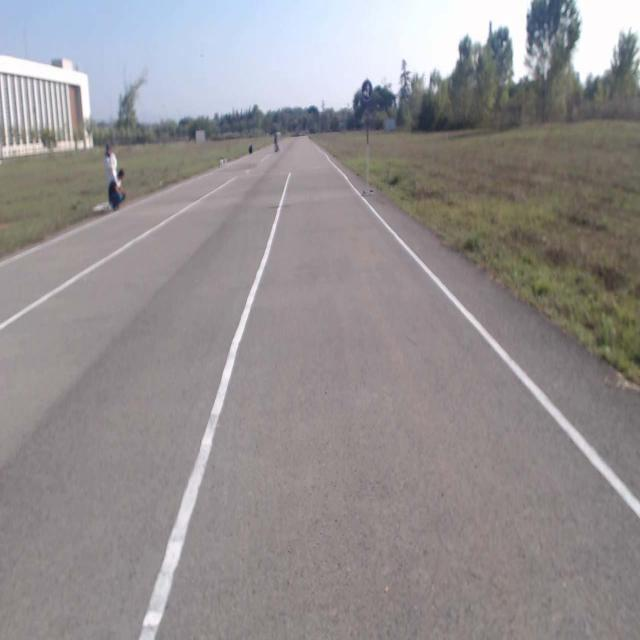ilerisol: (362, 79, 372, 99)
